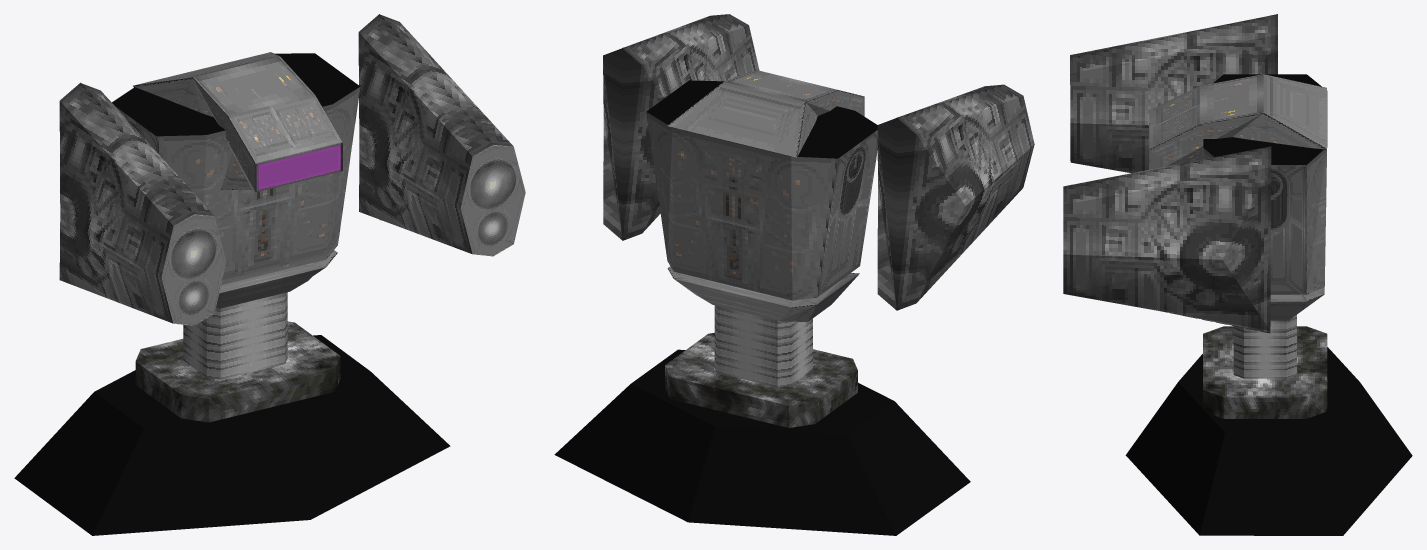
Rendered from alienbo3.obj.
3 views of the same model, side by side, from view 1: azimuth 30°, elevation 25°; view 2: azimuth 150°, elevation 25°; view 3: azimuth 270°, elevation 25° (orthographic). The views are drawn at different scales.
Bounding box in the file's own units: 18.88 × 19.13 × 16.12.
Materials: 12 (12 with a texture image).
